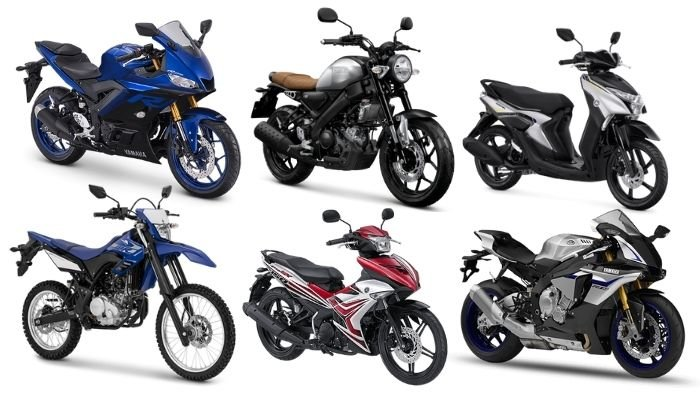motor: (8, 193, 237, 387), (17, 5, 248, 190), (253, 9, 452, 215), (473, 31, 681, 219), (463, 223, 695, 385), (255, 223, 453, 394)
